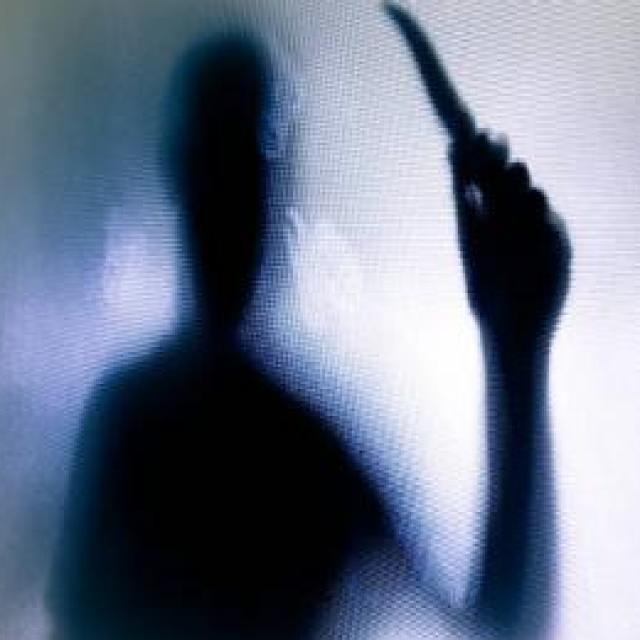knife: (382, 0, 536, 251)
